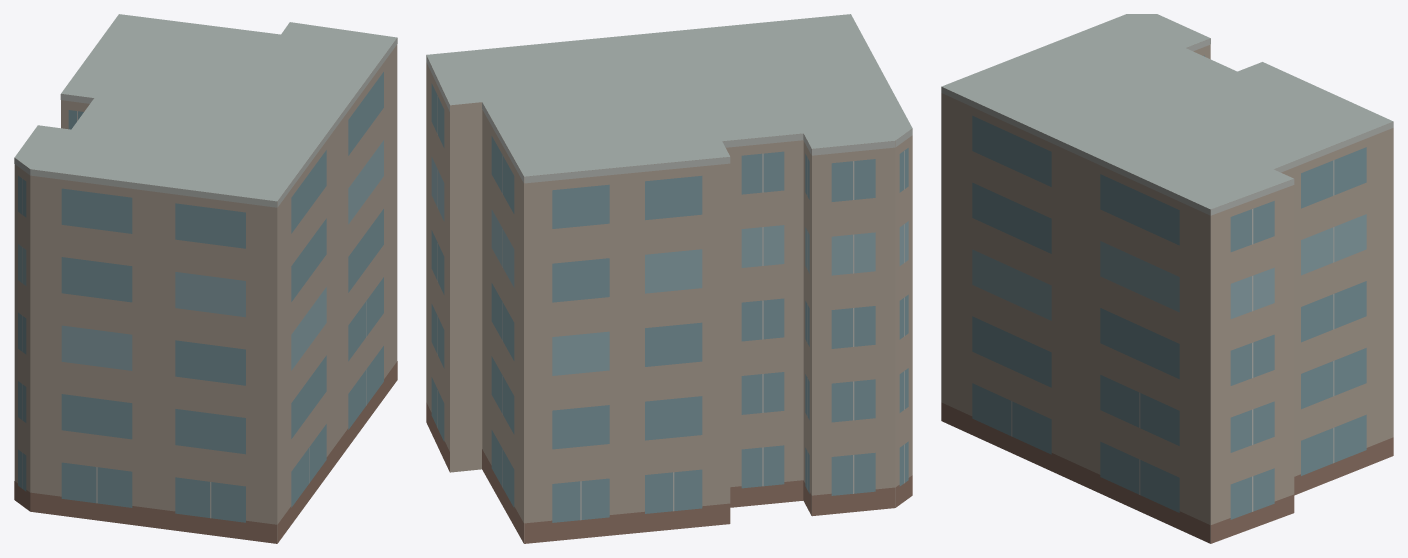
Rendered from survey-upis-32710570.glb.
3 views of the same model, side by side, from view 1: azimuth 30°, elevation 25°; view 2: azimuth 150°, elevation 25°; view 3: azimuth 270°, elevation 25° (orthographic). The views are drawn at different scales.
Parts seen in each view (by area): view 1: survey-upis-32710570.tmp; view 2: survey-upis-32710570.tmp; view 3: survey-upis-32710570.tmp.
Boxes of the visible parts, bbox=[...] form: survey-upis-32710570.tmp: bbox=[14, 14, 397, 543]; survey-upis-32710570.tmp: bbox=[426, 14, 912, 543]; survey-upis-32710570.tmp: bbox=[941, 14, 1393, 543].
Size of the model in its own units: 16.44 by 13.1 by 16.07.
